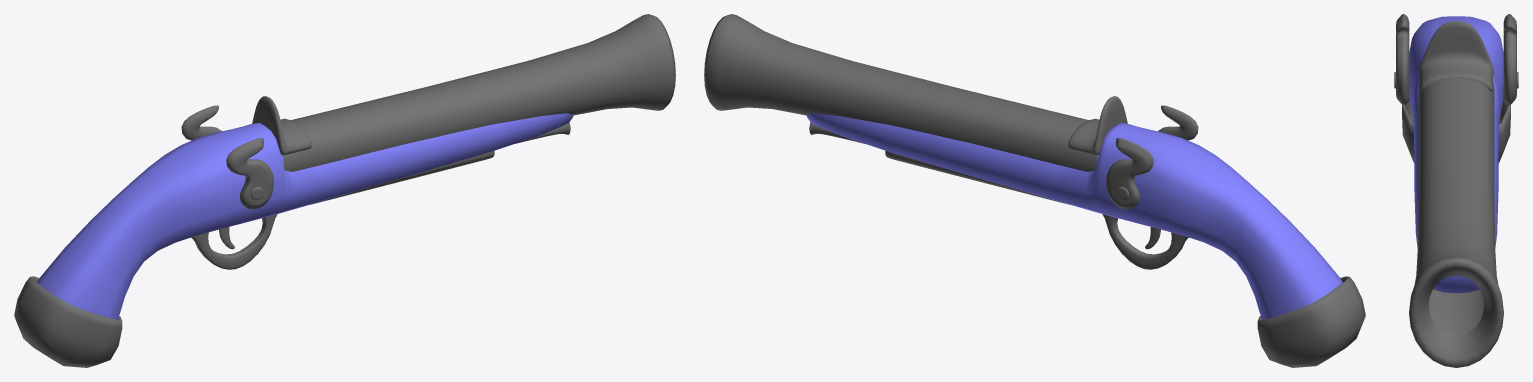
File: Gun 2.fbx
The picture shows the model from 3 angles, left to right: view 1: azimuth 30°, elevation 25°; view 2: azimuth 150°, elevation 25°; view 3: azimuth 270°, elevation 25°; orthographic projection. The views are drawn at different scales.
Visible parts, largest first — view 1: gun_body_3; view 2: gun_body_3; view 3: gun_body_3.
Part boxes in pixels (x1,y1,x2,y2): gun_body_3: (14, 14, 675, 367); gun_body_3: (704, 14, 1365, 367); gun_body_3: (1394, 14, 1518, 367).
Size of the model in its own units: 25.88 by 8.47 by 3.73.
